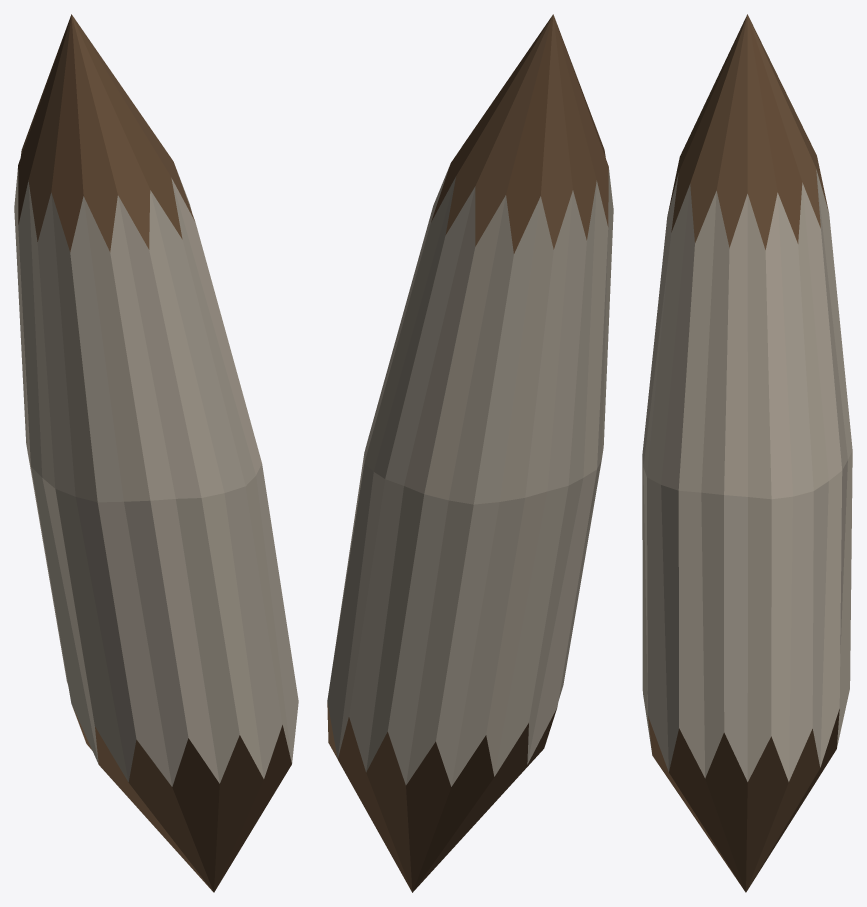
Rendered from Raccoon_Tail.glb.
3 views of the same model, side by side, from view 1: azimuth 30°, elevation 25°; view 2: azimuth 150°, elevation 25°; view 3: azimuth 270°, elevation 25° (orthographic). The views are drawn at different scales.
Parts seen in each view (by area): view 1: RaccoonTail; view 2: RaccoonTail; view 3: RaccoonTail.
Boxes of the visible parts, box(x1,y1,x2,y2) form: RaccoonTail: box(14, 14, 298, 892); RaccoonTail: box(327, 14, 613, 892); RaccoonTail: box(642, 14, 852, 892).
Bounding box in the file's own units: 0.2154 × 0.7425 × 0.1733.
